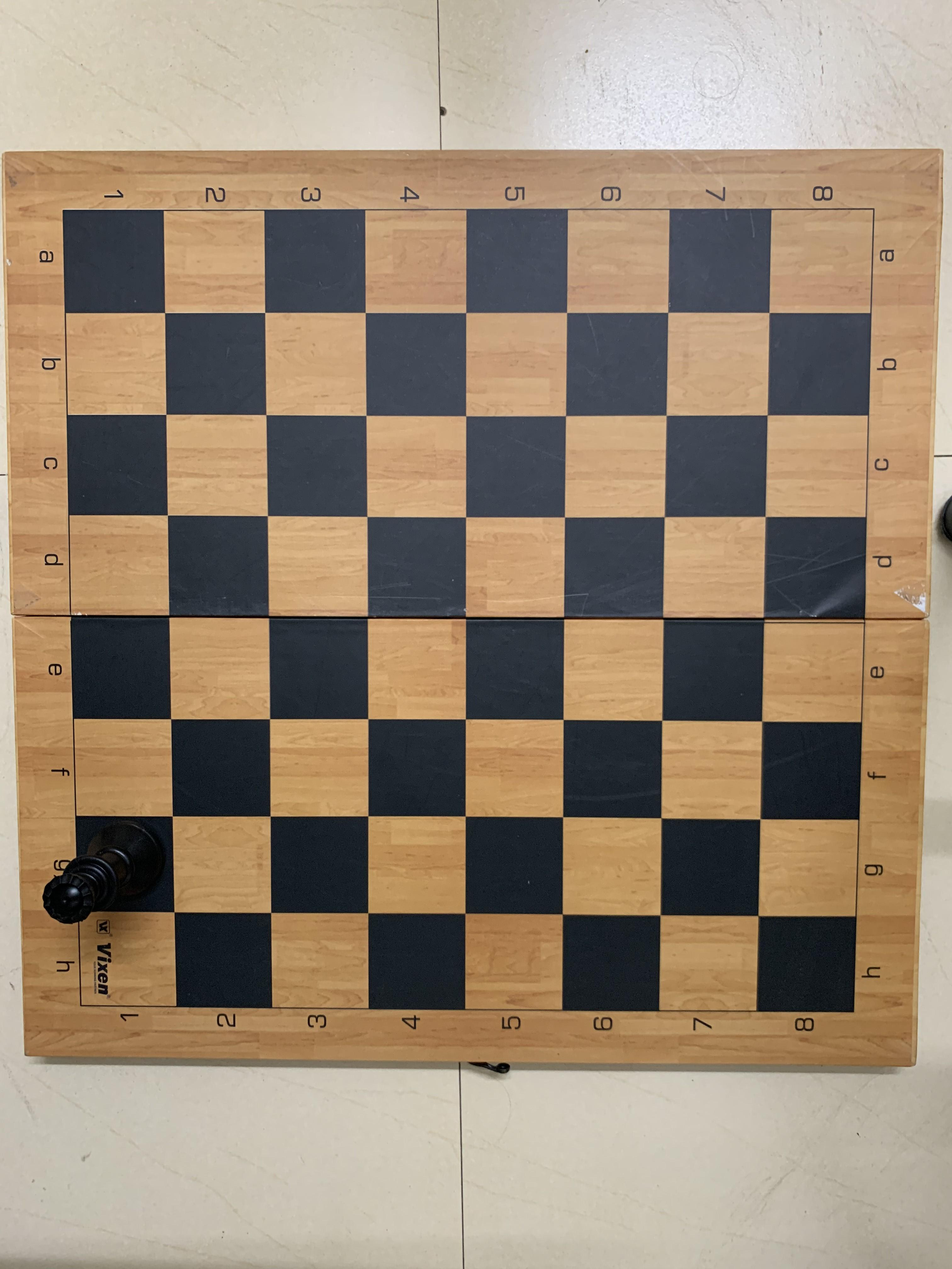black_queen: (32, 827, 178, 918)
